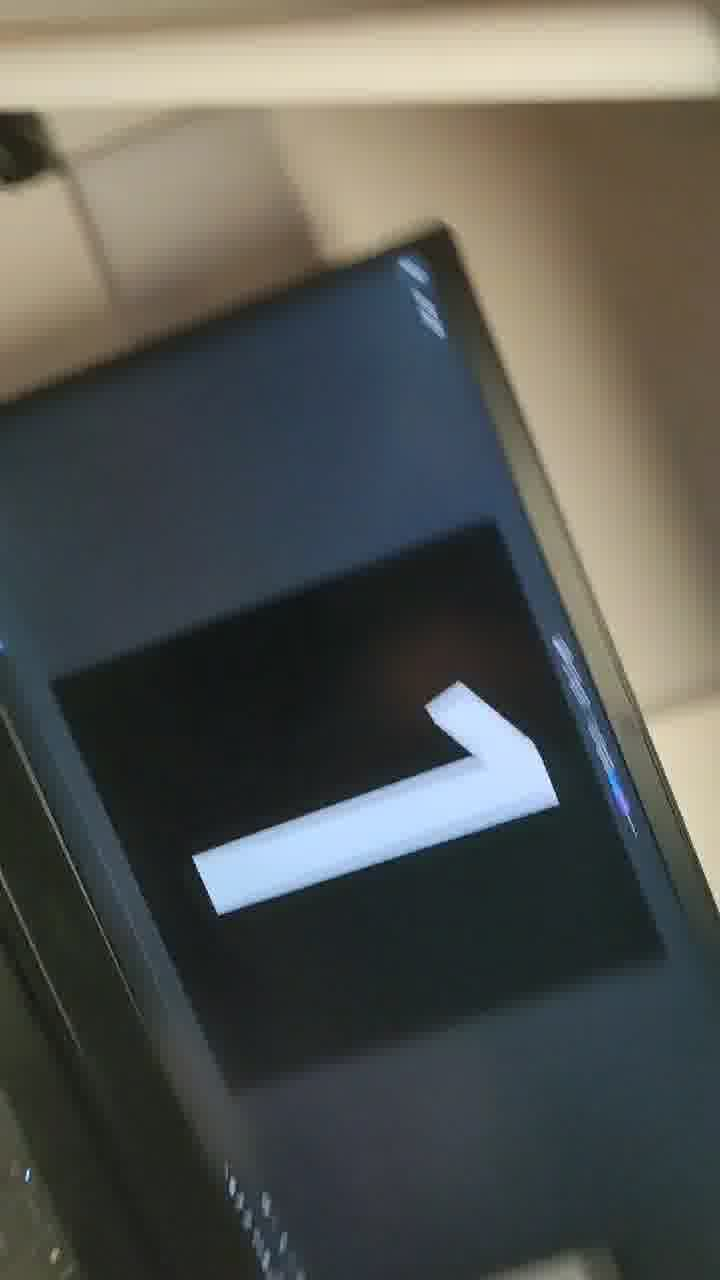one: (110, 621, 583, 1057)
